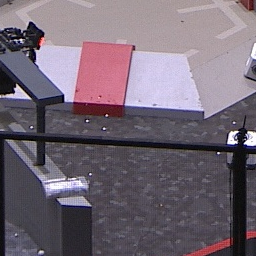Robot: (1, 22, 46, 95)
